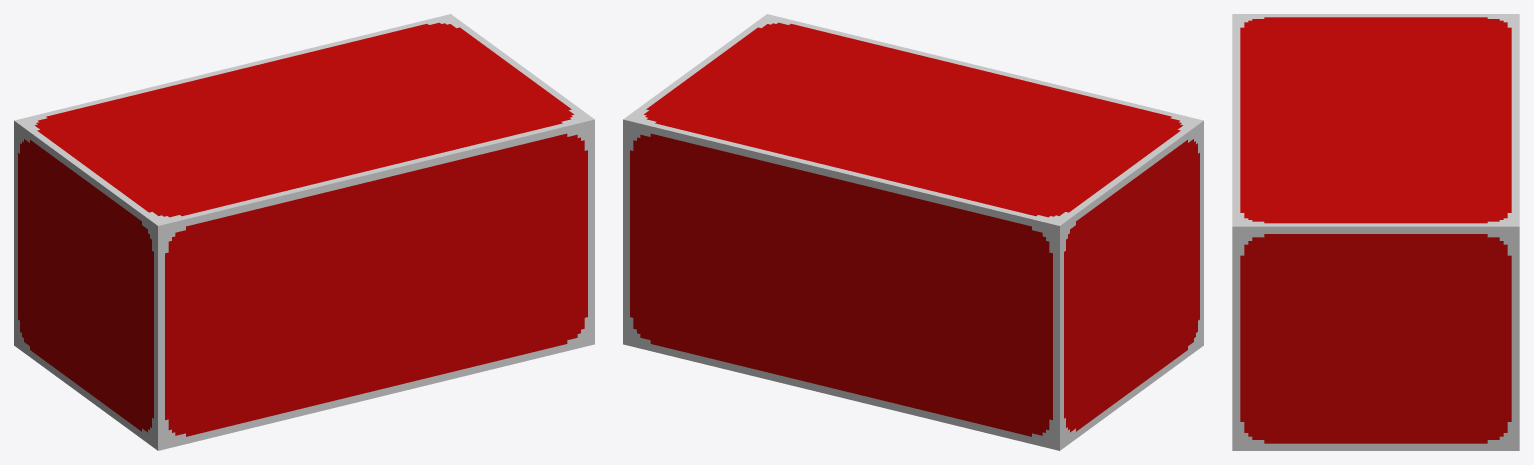
File: house_simple_red_rectangular.obj
3 views of the same model, side by side, from view 1: azimuth 30°, elevation 25°; view 2: azimuth 150°, elevation 25°; view 3: azimuth 270°, elevation 25° (orthographic).
Bounding box in the file's own units: 12.6 × 6.2 × 7.2.
1 material, 1 textured.
